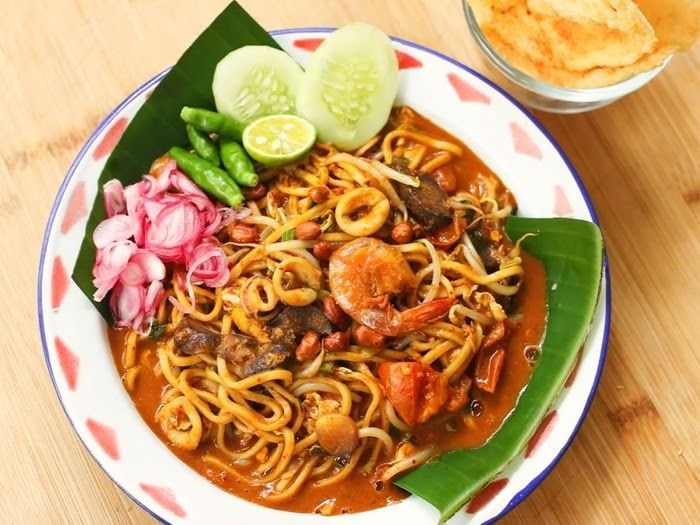mie_aceh: (124, 163, 537, 516)
